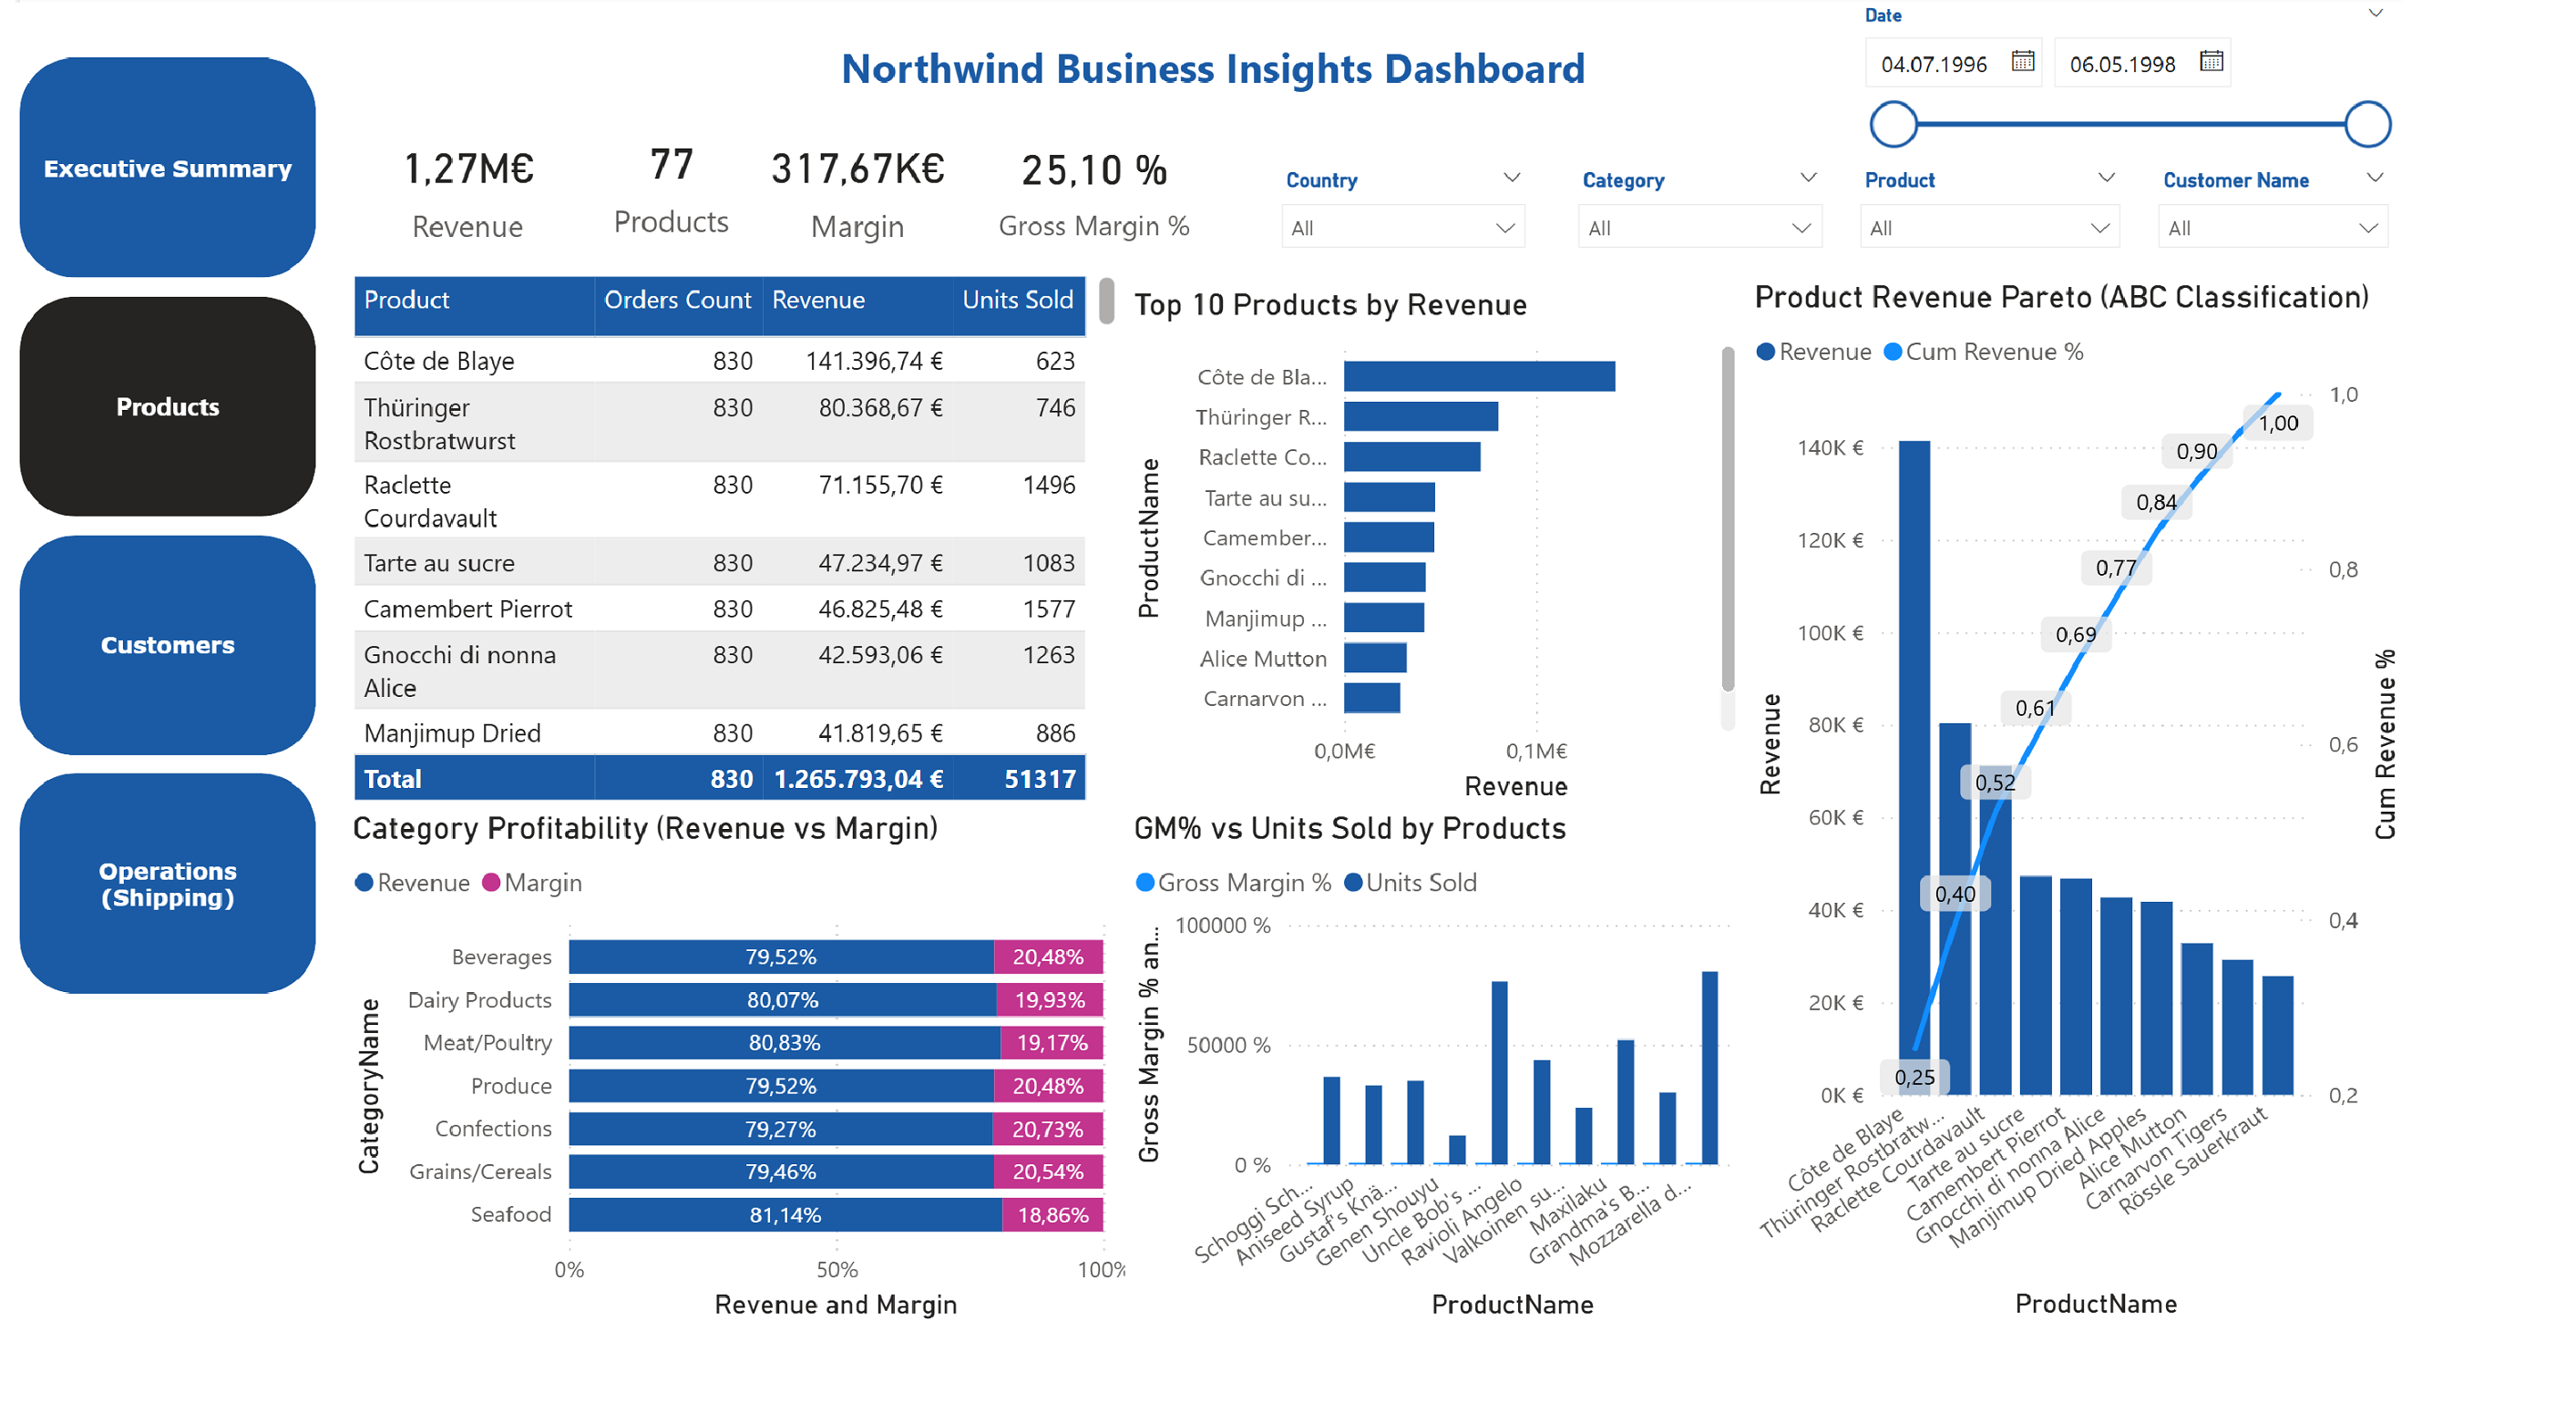

The dashboard page shown, as its layout file describes it:
{"tool":"powerbi","page":{"name":"Products","canvas":[1280,720],"ordinal":1},"visuals":[{"type":"pageNavigator","box":[0,33.7,159.9,506.2],"z":0},{"type":"textbox","box":[405,19.5,470,47.4],"z":1000},{"type":"slicer","fields":{"Values":["Date.Date"]},"box":[976.2,0,303.7,88.4],"z":2000},{"type":"slicer","fields":{"Values":["Categories.CategoryName"]},"box":[825.1,88.4,151,56.2],"z":3000},{"type":"slicer","fields":{"Values":["Customers.Country"]},"box":[666.4,88,151.2,56.4],"z":4000},{"type":"hundredPercentStackedBarChart","title":"Category Profitability (Revenue vs Margin)","fields":{"Category":["Categories.CategoryName"],"Y":["Order Details.Revenue","Products.Margin"]},"box":[173.4,440,427.2,280.2],"z":5000},{"type":"tableEx","fields":{"Values":["Products.ProductName","Orders.Orders Count","Order Details.Revenue","Order Details.Units Sold"]},"box":[173.4,147,418.7,293.1],"z":6000},{"type":"slicer","fields":{"Values":["Customers.ContactName"]},"box":[1136.1,88.4,143.8,56.2],"z":7000},{"type":"lineStackedColumnComboChart","title":"Product Revenue Pareto (ABC Classification)","fields":{"Y":["Order Details.Revenue"],"Category":["Products.ProductName"],"Y2":["Products.Cum Revenue %"]},"box":[924.5,153.8,355.4,566.5],"z":8000},{"type":"clusteredBarChart","title":"Top 10 Products by Revenue","fields":{"Category":["Products.ProductName"],"Y":["Order Details.Revenue"]},"box":[592.1,157.2,332.4,282.8],"z":9000},{"type":"clusteredColumnChart","title":"GM% vs Units Sold by Products","fields":{"Category":["Products.ProductName"],"Y":["Products.Gross Margin %","Order Details.Units Sold"]},"box":[592.1,440,332.4,280.2],"z":10000},{"type":"card","fields":{"Values":["Products.Margin"]},"box":[397.3,66.6,104.2,73.5],"z":11000},{"type":"card","fields":{"Values":["Count(Order Details.ProductID)"]},"box":[301.6,66.6,95.7,68.4],"z":12000},{"type":"card","fields":{"Values":["Order Details.Revenue"]},"box":[178.6,66.6,123,73.5],"z":13000},{"type":"card","fields":{"Values":["Products.Gross Margin %"]},"box":[511.8,66.6,128.2,73.5],"z":14000},{"type":"slicer","fields":{"Values":["Products.ProductName"]},"box":[976.2,88.4,159.9,51.4],"z":15000}]}

Visuals, with their boxes on the page's 1280x720 design canvas (x1, y1, x2, y2). These are canvas units, not pixel positions in the 2576x1402 screenshot, which may show the page scaled, cropped or inside an application window:
pageNavigator: (left=0, top=34, right=160, bottom=540)
textbox: (left=405, top=20, right=875, bottom=67)
slicer - Date.Date: (left=976, top=0, right=1280, bottom=88)
slicer - Categories.CategoryName: (left=825, top=88, right=976, bottom=145)
slicer - Customers.Country: (left=666, top=88, right=818, bottom=144)
"Category Profitability (Revenue vs Margin)" hundredPercentStackedBarChart: (left=173, top=440, right=601, bottom=720)
tableEx - Products.ProductName x Orders.Orders Count: (left=173, top=147, right=592, bottom=440)
slicer - Customers.ContactName: (left=1136, top=88, right=1280, bottom=145)
"Product Revenue Pareto (ABC Classification)" lineStackedColumnComboChart: (left=924, top=154, right=1280, bottom=720)
"Top 10 Products by Revenue" clusteredBarChart: (left=592, top=157, right=924, bottom=440)
"GM% vs Units Sold by Products" clusteredColumnChart: (left=592, top=440, right=924, bottom=720)
card - Products.Margin: (left=397, top=67, right=502, bottom=140)
card - Count(Order Details.ProductID): (left=302, top=67, right=397, bottom=135)
card - Order Details.Revenue: (left=179, top=67, right=302, bottom=140)
card - Products.Gross Margin %: (left=512, top=67, right=640, bottom=140)
slicer - Products.ProductName: (left=976, top=88, right=1136, bottom=140)
